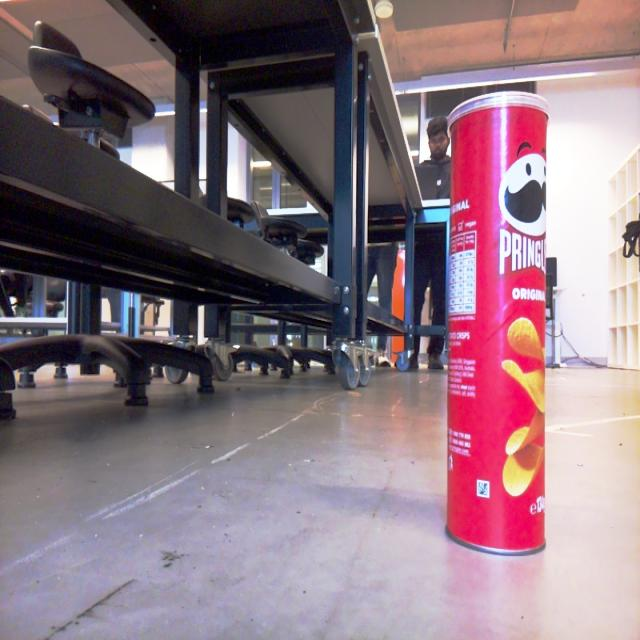redpringles: (419, 81, 566, 577)
